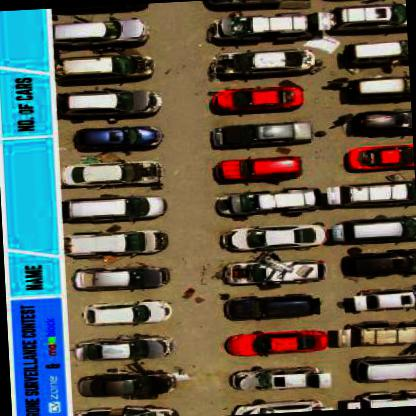car: (69, 226, 169, 259), (61, 86, 160, 119), (211, 258, 328, 285), (63, 160, 166, 190), (212, 13, 311, 44), (76, 368, 174, 399), (72, 190, 166, 222), (213, 46, 313, 76), (75, 332, 164, 364), (61, 52, 155, 82), (222, 290, 312, 320), (214, 120, 309, 148), (59, 14, 147, 44), (219, 83, 301, 115), (76, 261, 166, 290), (228, 365, 326, 391), (224, 186, 311, 215), (322, 0, 406, 30), (221, 330, 324, 354), (334, 319, 415, 349), (342, 245, 415, 278), (76, 124, 162, 152), (323, 181, 415, 207), (86, 298, 168, 326), (216, 154, 298, 182), (239, 223, 322, 250), (343, 285, 415, 315), (337, 215, 415, 242), (350, 354, 415, 385), (344, 142, 413, 170), (344, 38, 406, 66), (341, 76, 410, 100), (338, 389, 415, 409), (235, 397, 323, 414), (80, 401, 175, 415), (355, 110, 411, 133)
